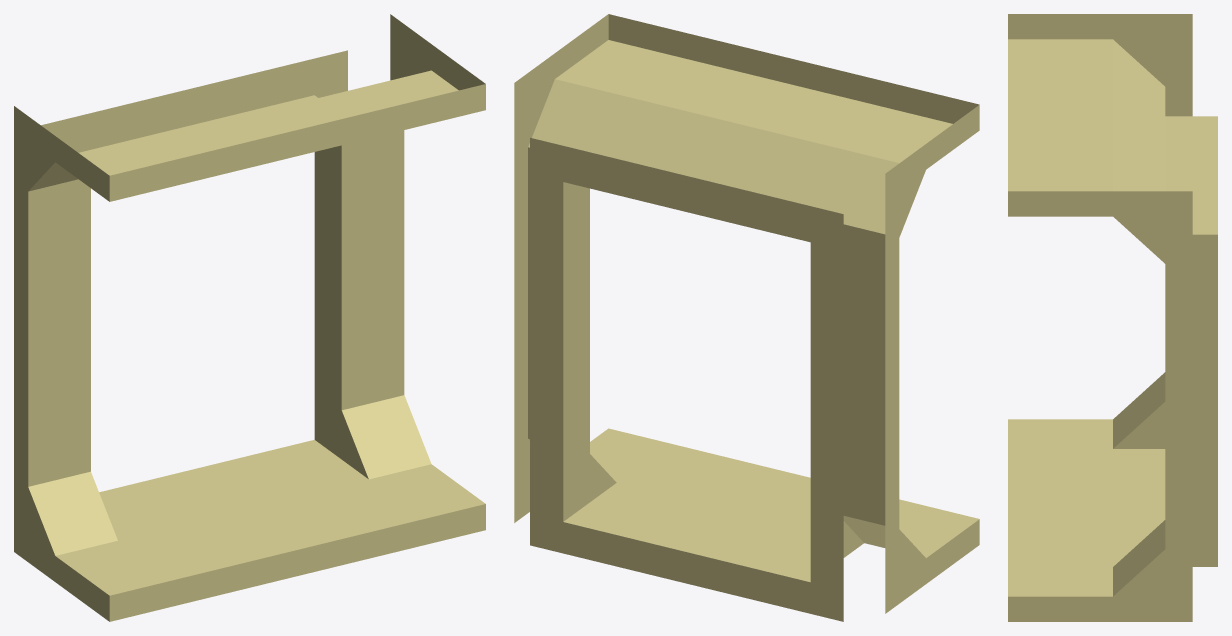
The model's file is CLow_Wall_A_Door_B.FBX.
3 views of the same model, side by side, from view 1: azimuth 30°, elevation 25°; view 2: azimuth 150°, elevation 25°; view 3: azimuth 270°, elevation 25° (orthographic). The views are drawn at different scales.
Parts seen in each view (by area): view 1: CLow_Wall_A_Door_B; view 2: CLow_Wall_A_Door_B; view 3: CLow_Wall_A_Door_B.
Boxes of the visible parts, x1,y1,x2,y2 form: CLow_Wall_A_Door_B: (14,14,485,621); CLow_Wall_A_Door_B: (514,14,979,621); CLow_Wall_A_Door_B: (1008,14,1217,621).
Size of the model in its own units: 300 by 344 by 150.
